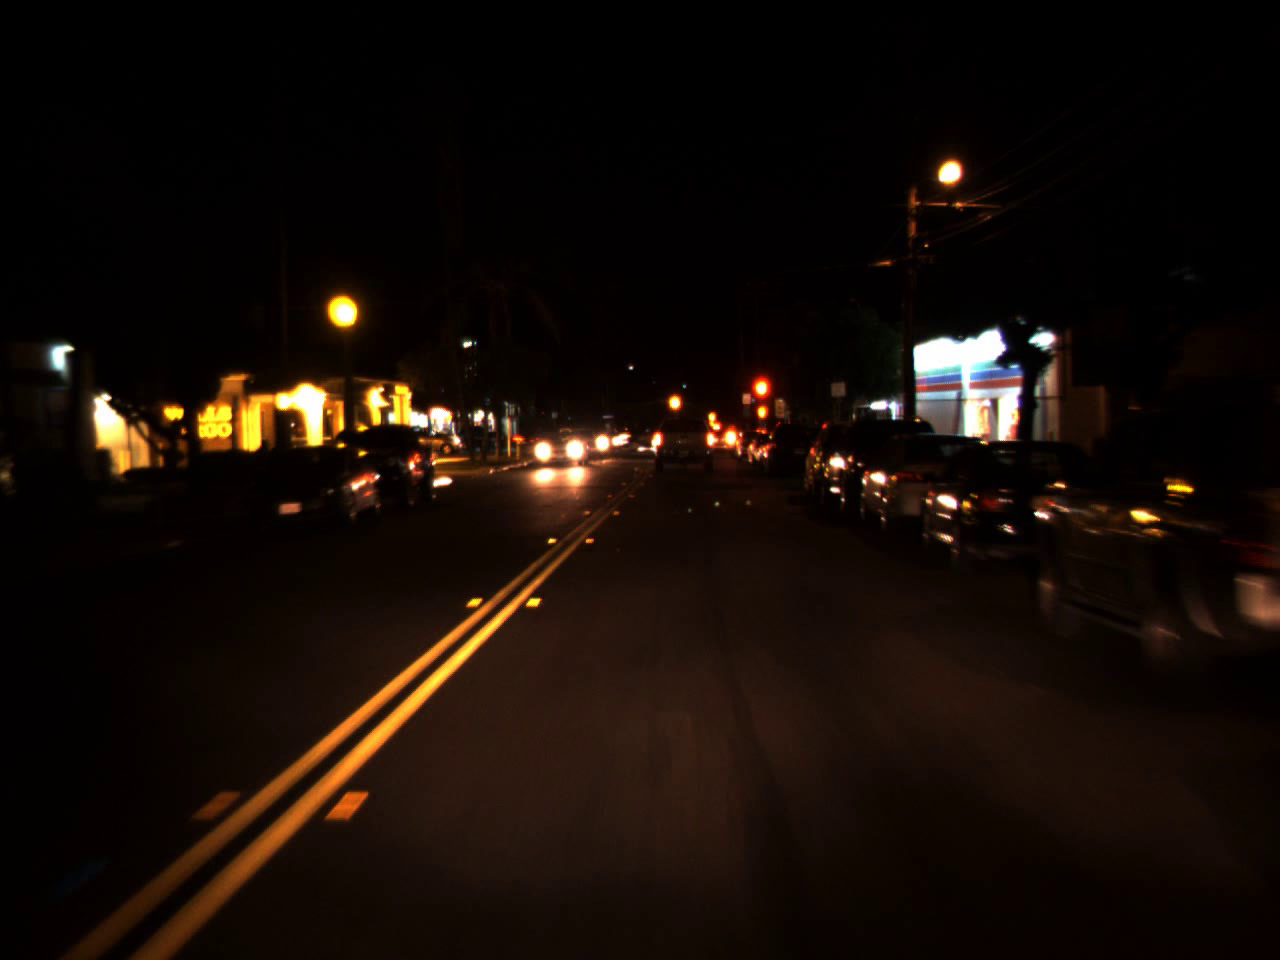stop: (747, 373, 774, 427)
warning: (667, 388, 683, 415), (707, 407, 716, 422)
